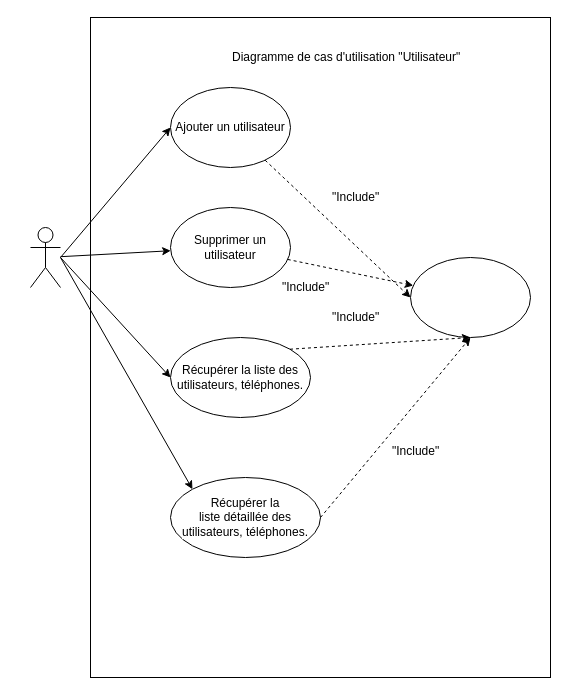
The diagram is 568 pixels wide and 695 high, and some of its shapes have lost their labels. Each missing label, with the centre of its shape:
"JTW Auth" belongs at pixel 470 297.
"Utilisateur Enregistré" belongs at pixel 45 257.
